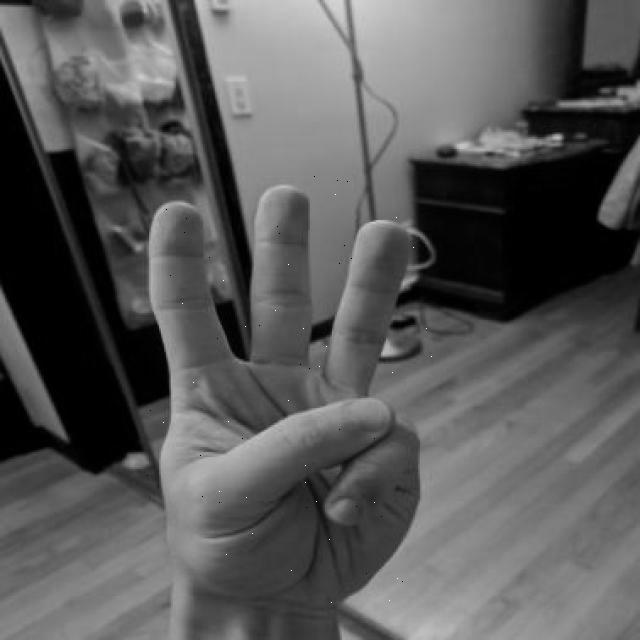W: (139, 175, 432, 617)
